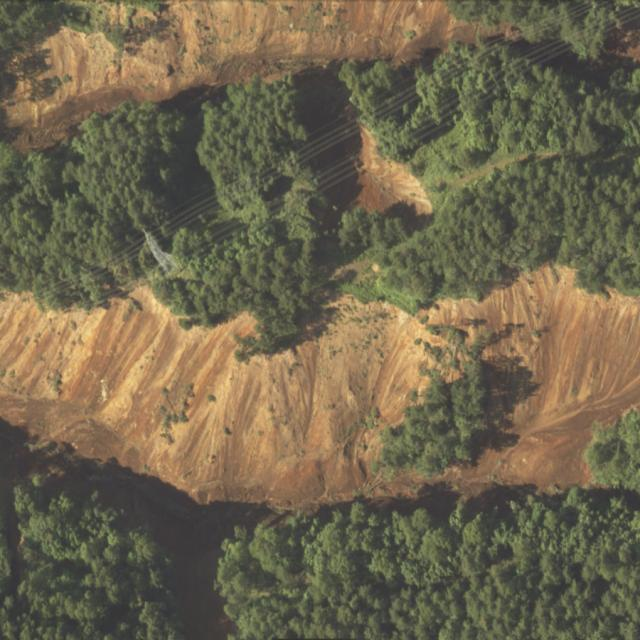landslide: (0, 266, 640, 509), (0, 0, 489, 151), (357, 125, 433, 215)
